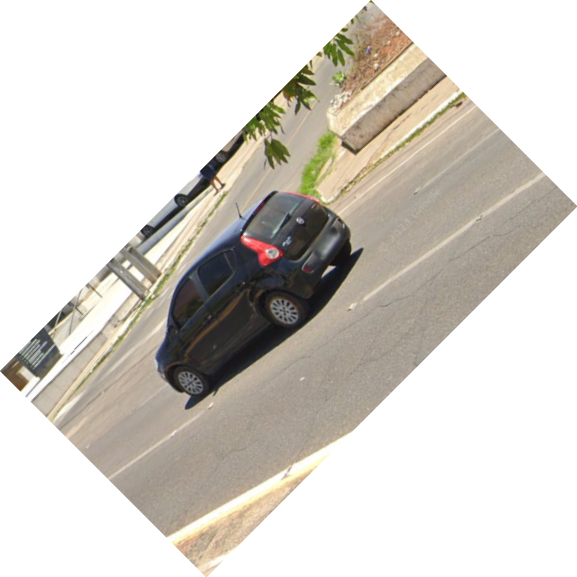car: (151, 189, 370, 406)
